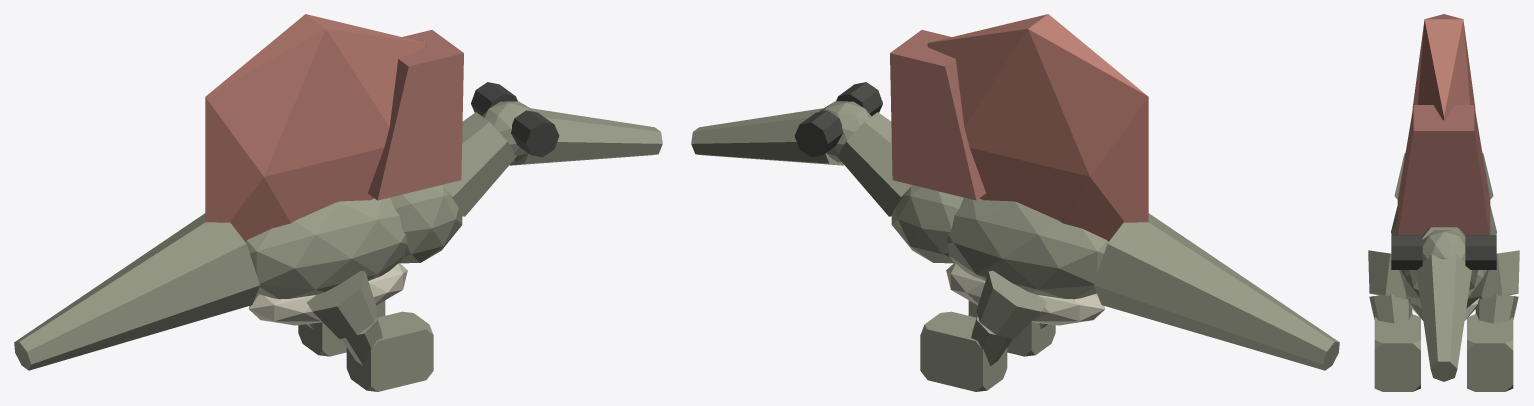
The picture shows the model from 3 angles, left to right: view 1: azimuth 30°, elevation 25°; view 2: azimuth 150°, elevation 25°; view 3: azimuth 270°, elevation 25°; orthographic projection. The views are drawn at different scales.
Visible parts, largest first — view 1: part6, part8, part0, part7, part14, part5, part3, part1, part12, part2, part16, part11 (+3 smaller); view 2: part6, part8, part0, part7, part11, part5, part3, part1, part9, part2, part15, part14 (+3 smaller); view 3: part7, part5, part6, part11, part14, part9, part12, part4, part15, part16, part10, part13 (+5 smaller).
Part boxes in pixels (box(x1,y1,x2,y2)): part6: box(205, 14, 426, 241); part8: box(14, 213, 259, 370); part0: box(245, 197, 407, 299); part7: box(368, 30, 463, 200); part14: box(346, 311, 433, 391); part5: box(509, 108, 662, 165); part3: box(442, 112, 516, 216); part1: box(390, 185, 462, 263); part12: box(307, 270, 377, 339); part2: box(249, 263, 407, 325); part16: box(511, 110, 559, 157); part11: box(298, 300, 385, 356); part6: box(927, 14, 1148, 241); part8: box(1094, 213, 1339, 370); part0: box(946, 197, 1108, 299); part7: box(890, 30, 985, 200); part11: box(920, 311, 1007, 391); part5: box(691, 108, 844, 165); part3: box(837, 112, 911, 216); part1: box(891, 185, 963, 263); part9: box(976, 270, 1046, 339); part2: box(946, 263, 1104, 325); part15: box(794, 110, 842, 157); part14: box(968, 300, 1055, 356); part7: box(1397, 105, 1490, 235); part5: box(1416, 254, 1471, 381); part6: box(1412, 14, 1475, 120); part11: box(1467, 314, 1513, 391); part14: box(1374, 314, 1420, 391); part9: box(1479, 250, 1519, 299); part12: box(1368, 250, 1408, 299); part4: box(1422, 230, 1465, 261); part15: box(1465, 235, 1496, 269); part16: box(1391, 235, 1422, 269); part10: box(1475, 294, 1518, 323); part13: box(1369, 294, 1412, 323).
Size of the model in its own units: 7.62 by 4 by 1.64.
